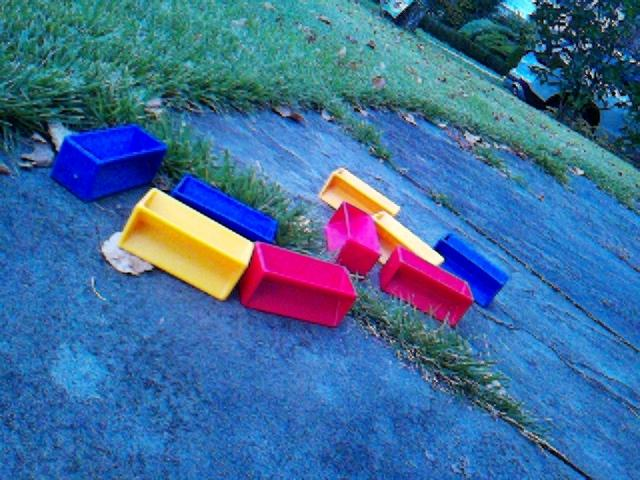blue: (50, 123, 168, 203), (170, 173, 281, 245), (433, 231, 510, 308)
red: (239, 239, 359, 328), (379, 245, 475, 328), (324, 200, 382, 277)
yellow: (118, 186, 255, 302), (372, 210, 446, 267), (319, 167, 401, 218)
